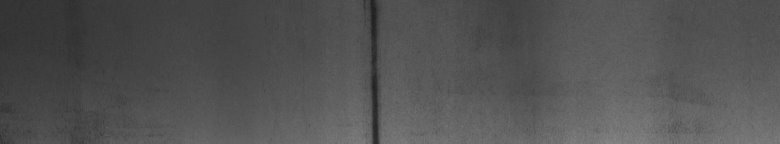hd: (364, 4, 387, 136)
